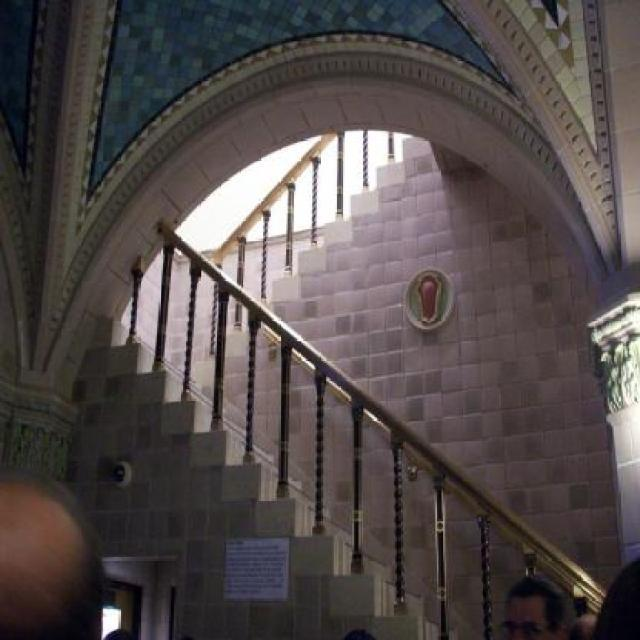stair: (108, 318, 460, 640), (194, 130, 417, 387)
